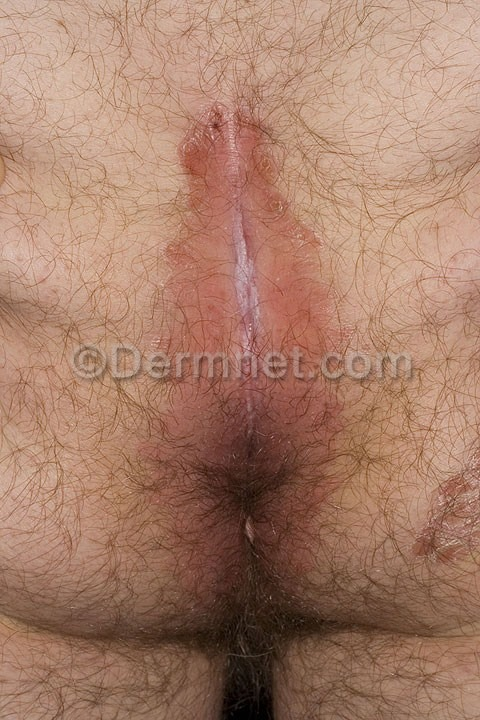Psoriasis: (145, 100, 337, 448)
